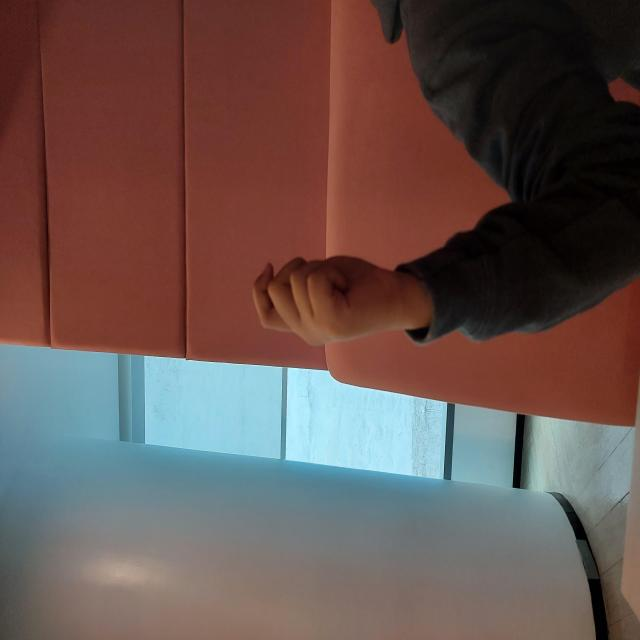T: (291, 247, 393, 417)
